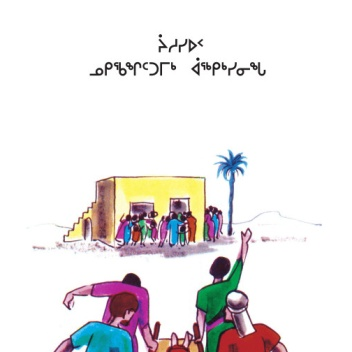inuktitut: (87, 54, 267, 78), (155, 29, 203, 55)
